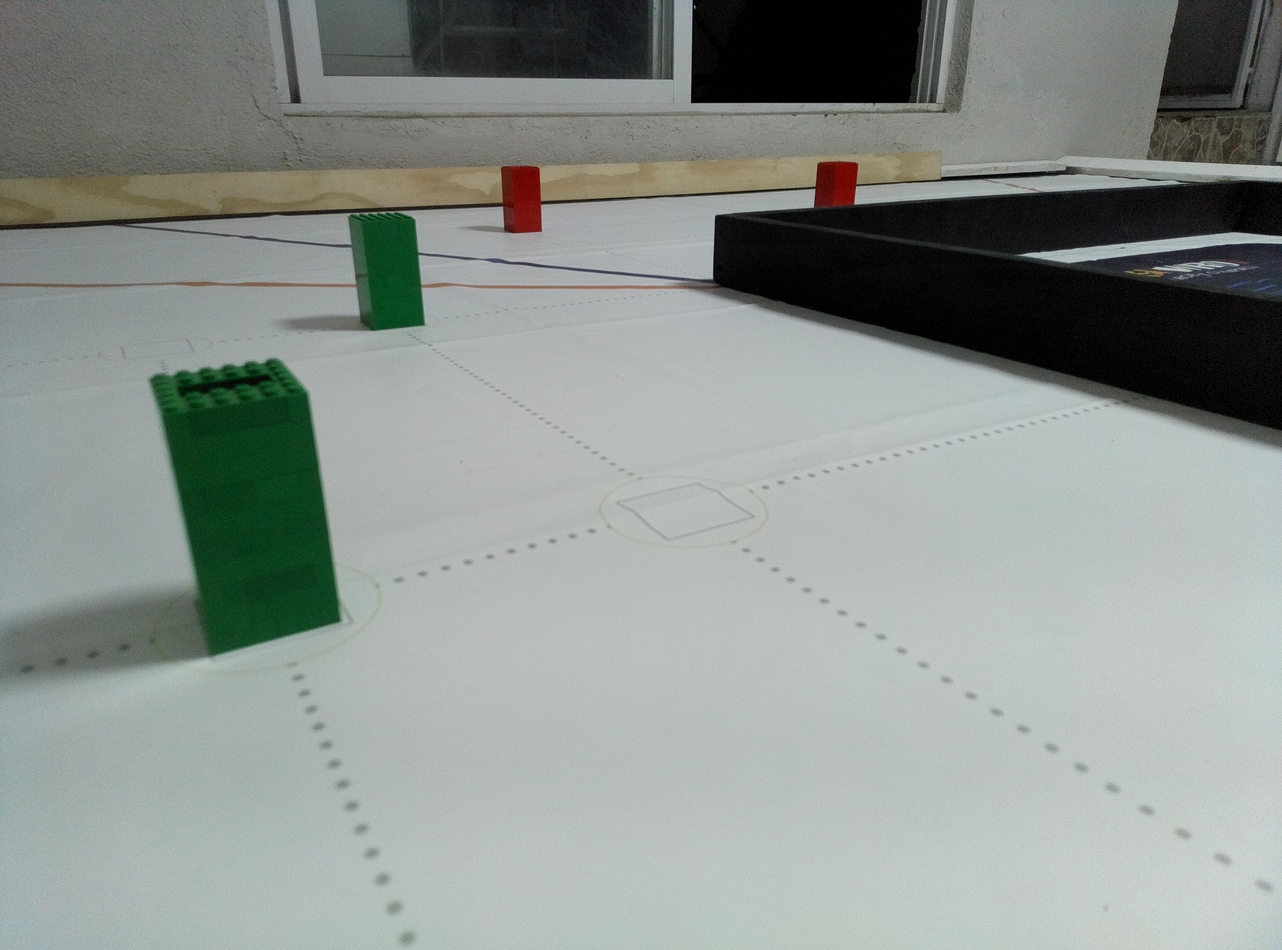greenbox: (147, 357, 342, 659), (348, 212, 425, 331)
redbox: (501, 166, 542, 234), (813, 161, 858, 207)
